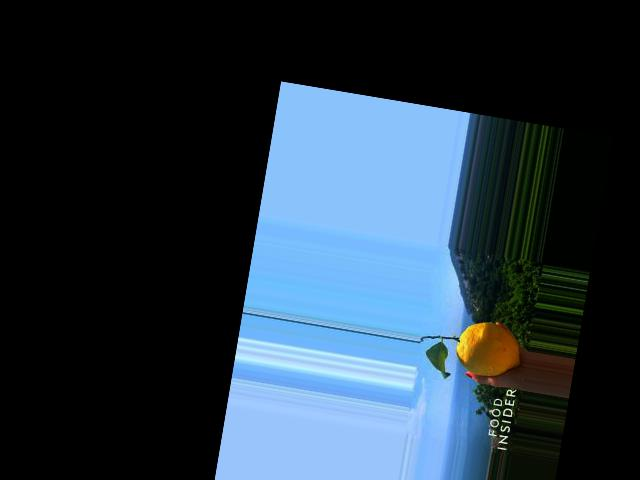lemon: (449, 307, 527, 389)
